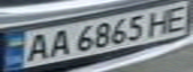5: (124, 11, 151, 42)
6: (72, 23, 96, 53), (109, 16, 133, 45)
8: (90, 19, 115, 48)
A: (18, 30, 54, 63), (45, 27, 72, 58)
E: (160, 2, 193, 34)
H: (142, 7, 175, 37)
